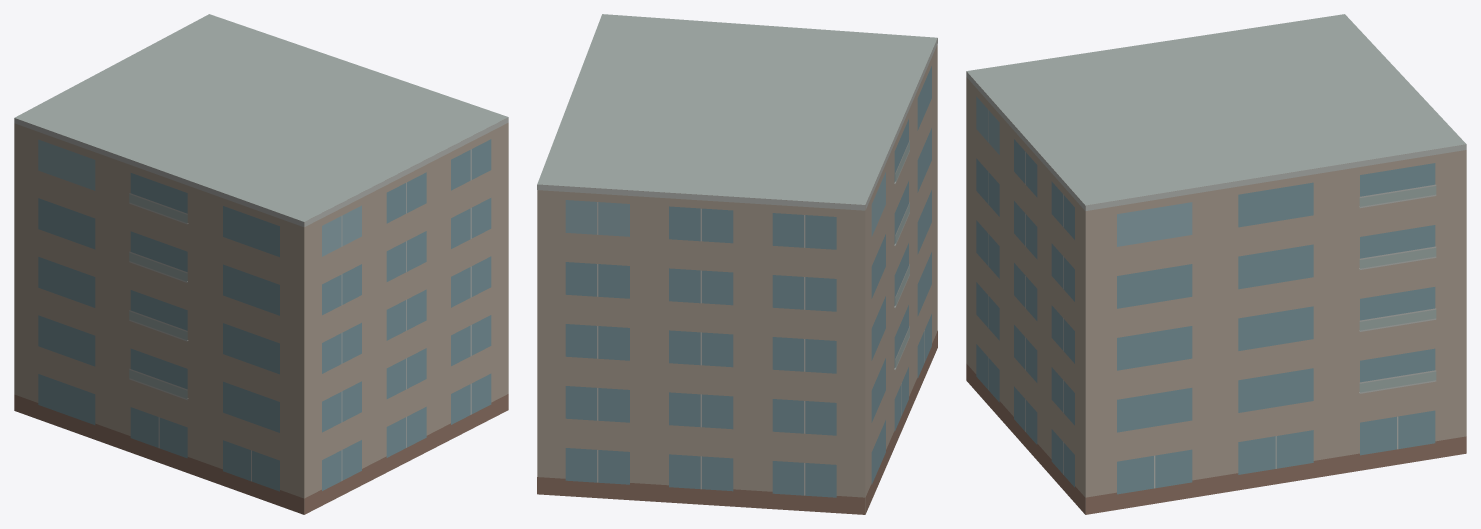
The model's file is survey-upis-32839870.glb.
3 views of the same model, side by side, from view 1: azimuth 30°, elevation 25°; view 2: azimuth 150°, elevation 25°; view 3: azimuth 270°, elevation 25° (orthographic). The views are drawn at different scales.
Visible parts, largest first — view 1: survey-upis-32839870.tmp; view 2: survey-upis-32839870.tmp; view 3: survey-upis-32839870.tmp.
Part boxes in pixels (x1,y1,x2,y2): survey-upis-32839870.tmp: (14, 14, 508, 514); survey-upis-32839870.tmp: (537, 14, 937, 514); survey-upis-32839870.tmp: (966, 14, 1466, 514).
Size of the model in its own units: 17.67 by 13.3 by 19.5.
